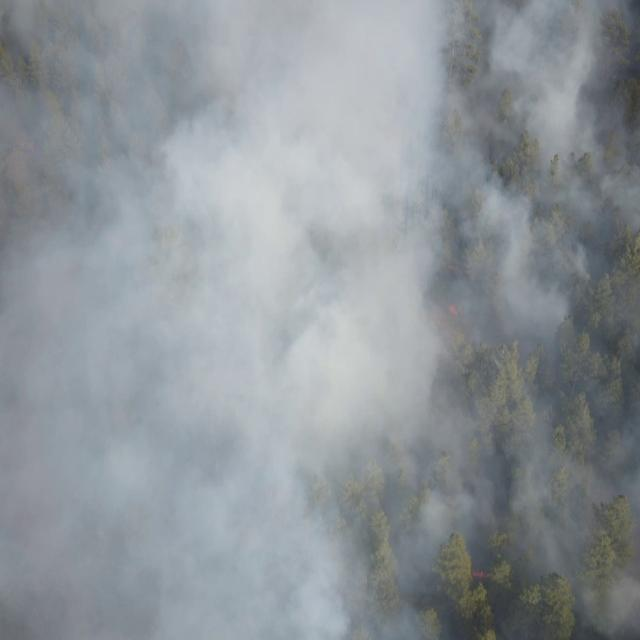fire: (444, 300, 466, 318), (468, 568, 494, 582), (22, 136, 34, 156)
smoke: (0, 0, 640, 640)
